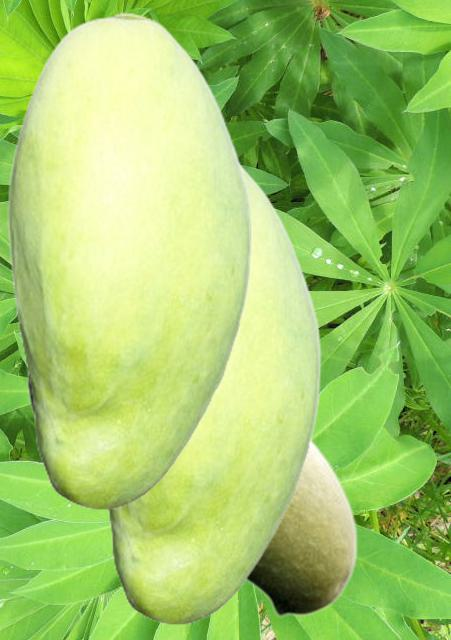green_mango: (7, 12, 251, 509), (104, 159, 320, 624), (26, 368, 357, 617)
